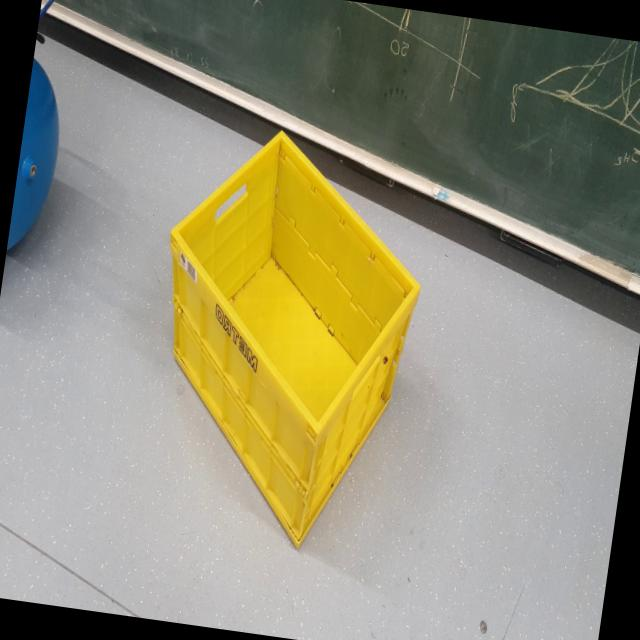box: (126, 106, 447, 576)
